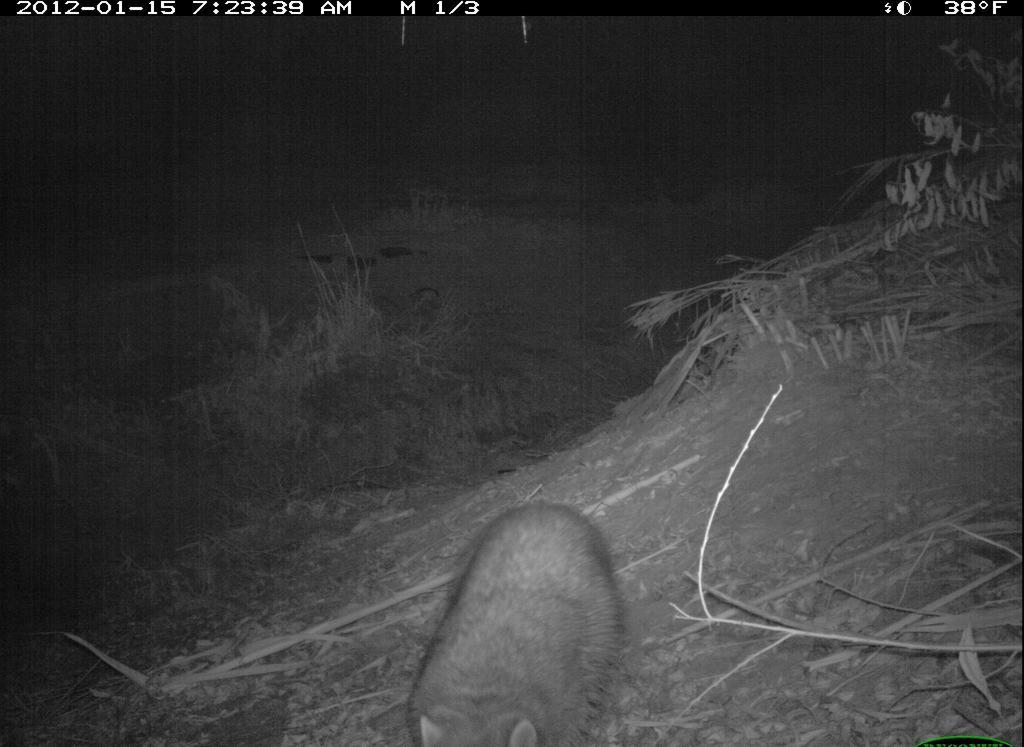raccoon: (405, 491, 637, 747)
